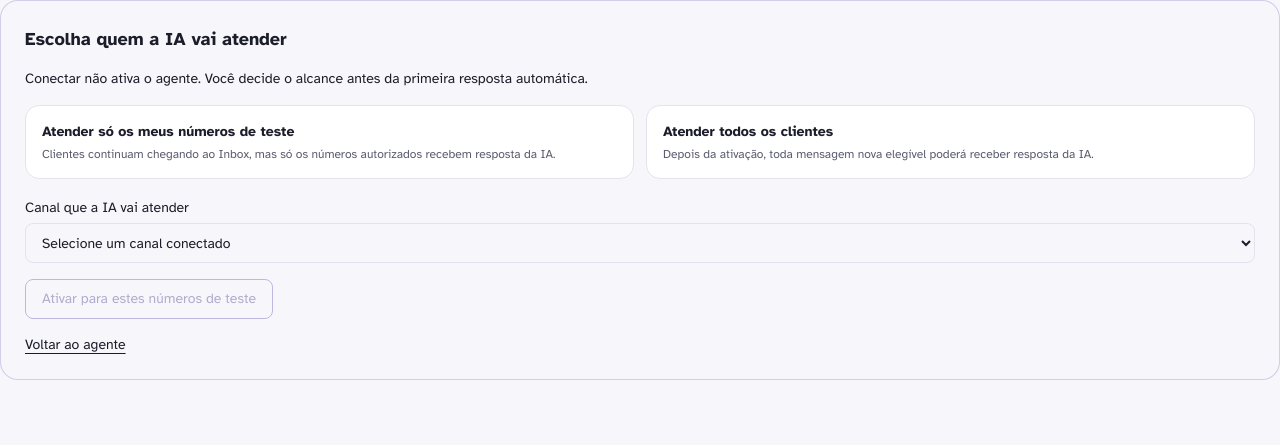
Test: oferece as duas escolhas com o mesmo peso e libera todos pela mesma API canônica
Step 1. Select "Canal QA · Conectado" in the dropdown labelled "Canal que a IA vai atender" → (640, 243), box [25, 223, 1255, 263]
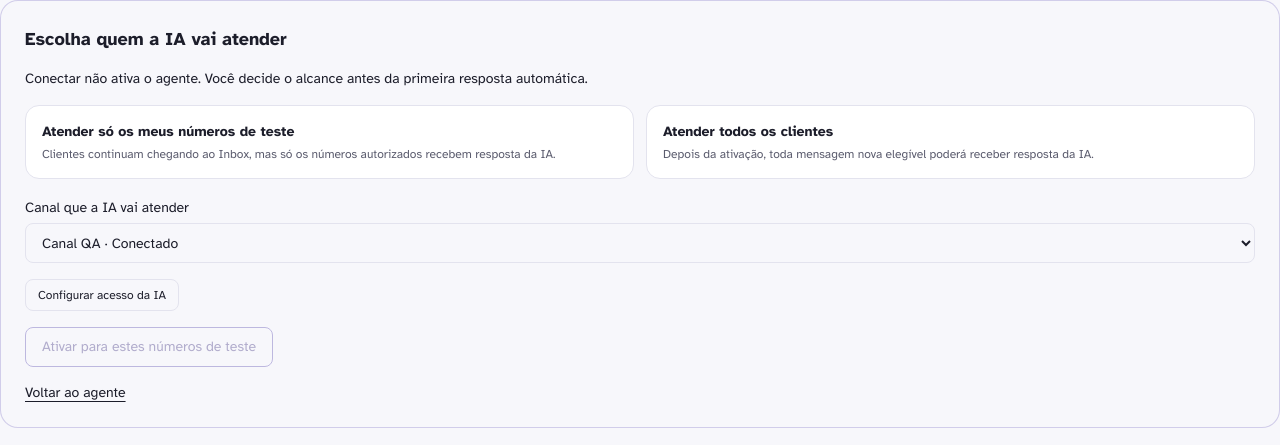
Step 2. Click the button "Atender todos os clientes" → (748, 132), box [646, 105, 1255, 179]
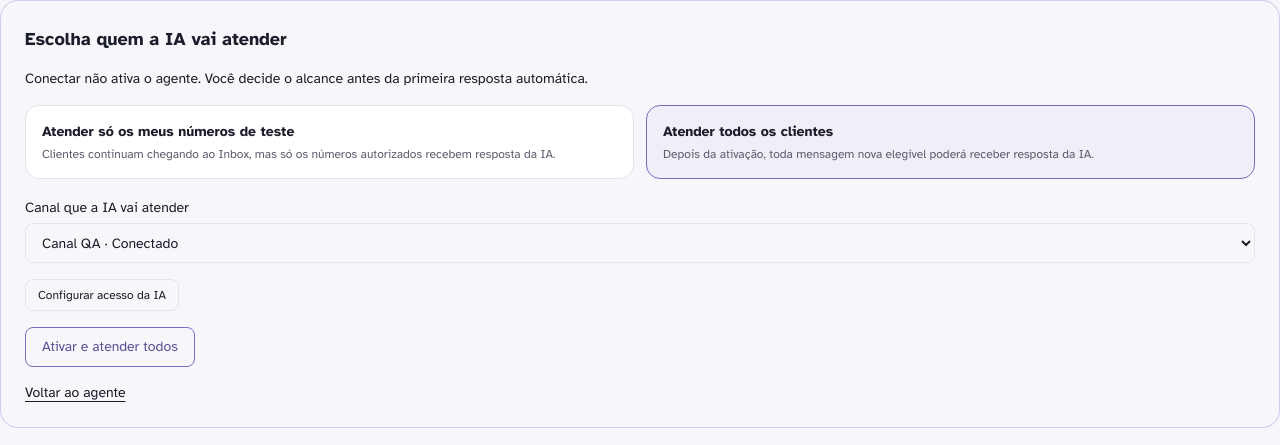
Step 3. Click the button "Ativar e atender todos" → (110, 347), box [25, 327, 195, 367]
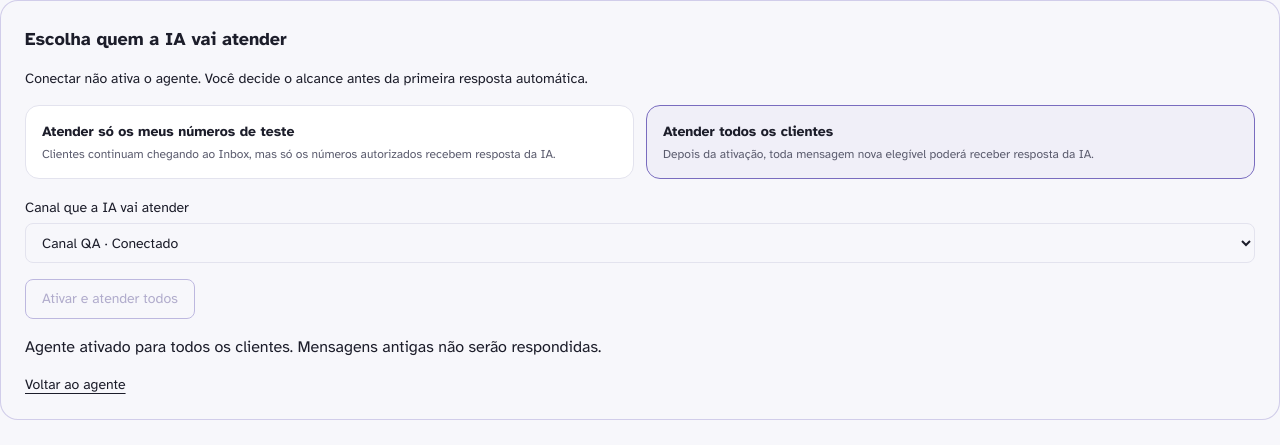
Result: the message shows "Agente ativado para todos os clientes" at [25, 337, 601, 357]
